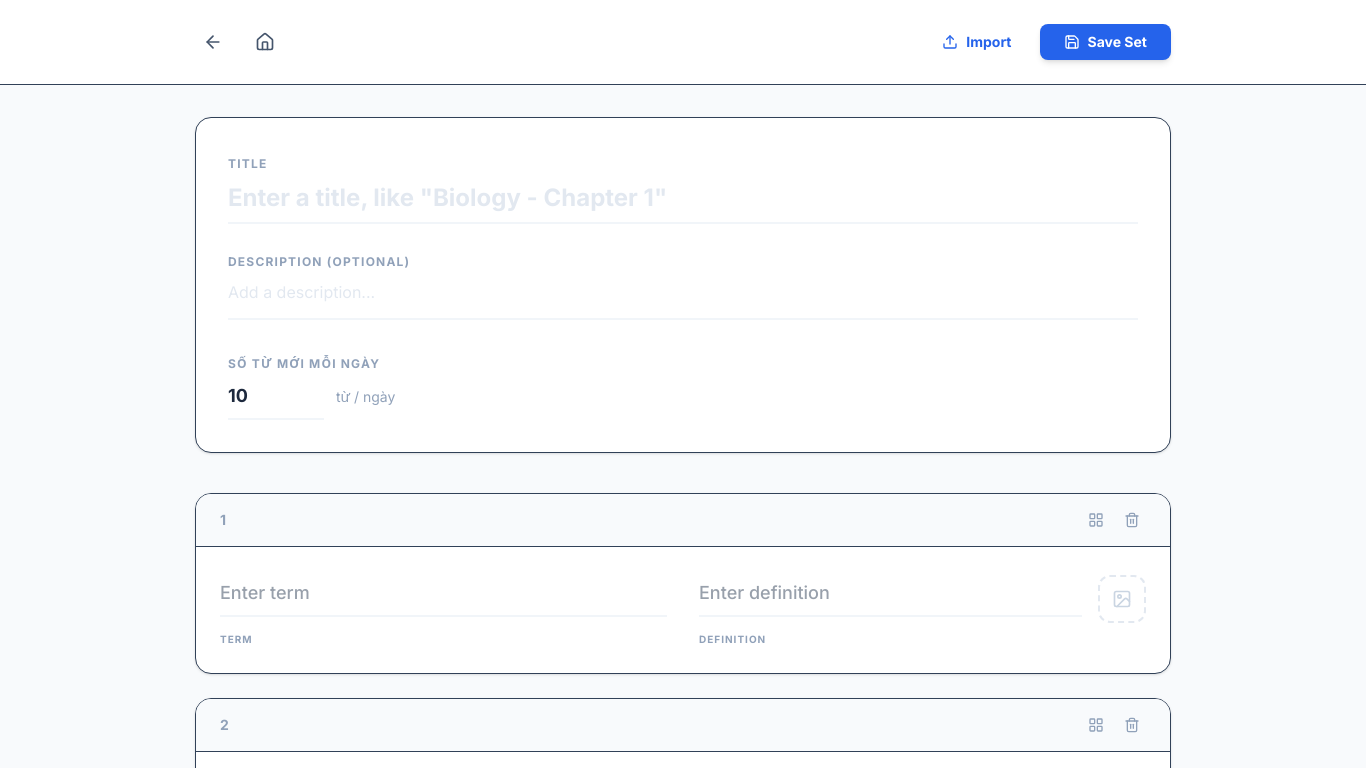
Test: SetEditor — handleSave › shows error toast when title is empty
Click the button "Save Set" at (1105, 42), box [1040,24,1171,60]
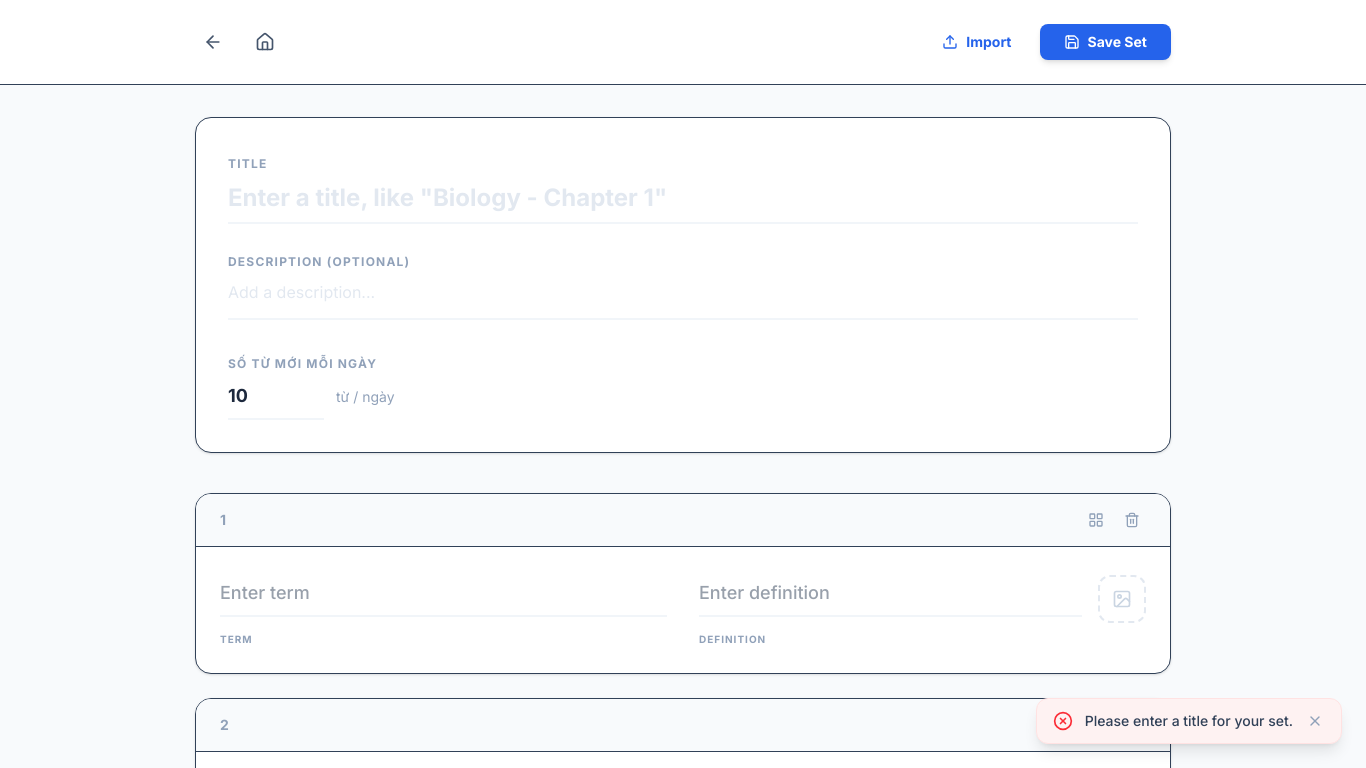
Result: the text "Please enter a title for your set." is shown at [1085,711,1293,731]
